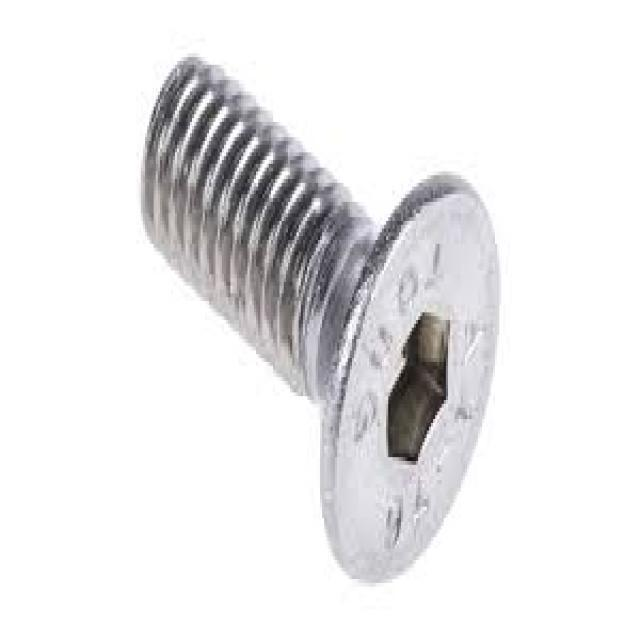Screw: (139, 57, 503, 587)
